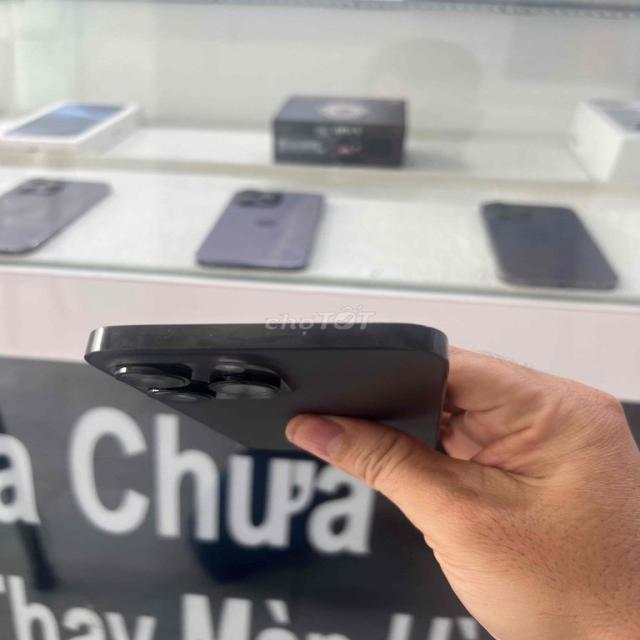gen_14: (64, 317, 458, 462)
